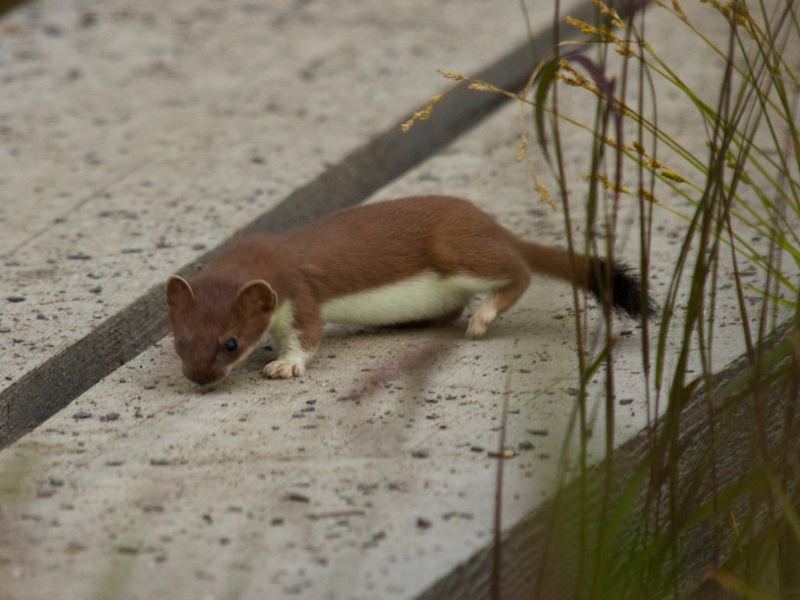minkish: (162, 185, 658, 396)
